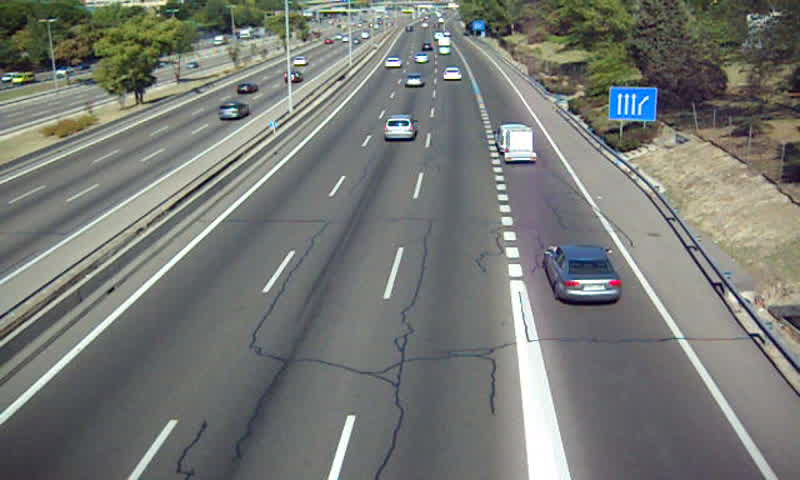car: (546, 247, 622, 304), (383, 116, 418, 142), (404, 73, 427, 87), (442, 68, 463, 82), (384, 57, 402, 70)
van: (495, 125, 529, 151)
